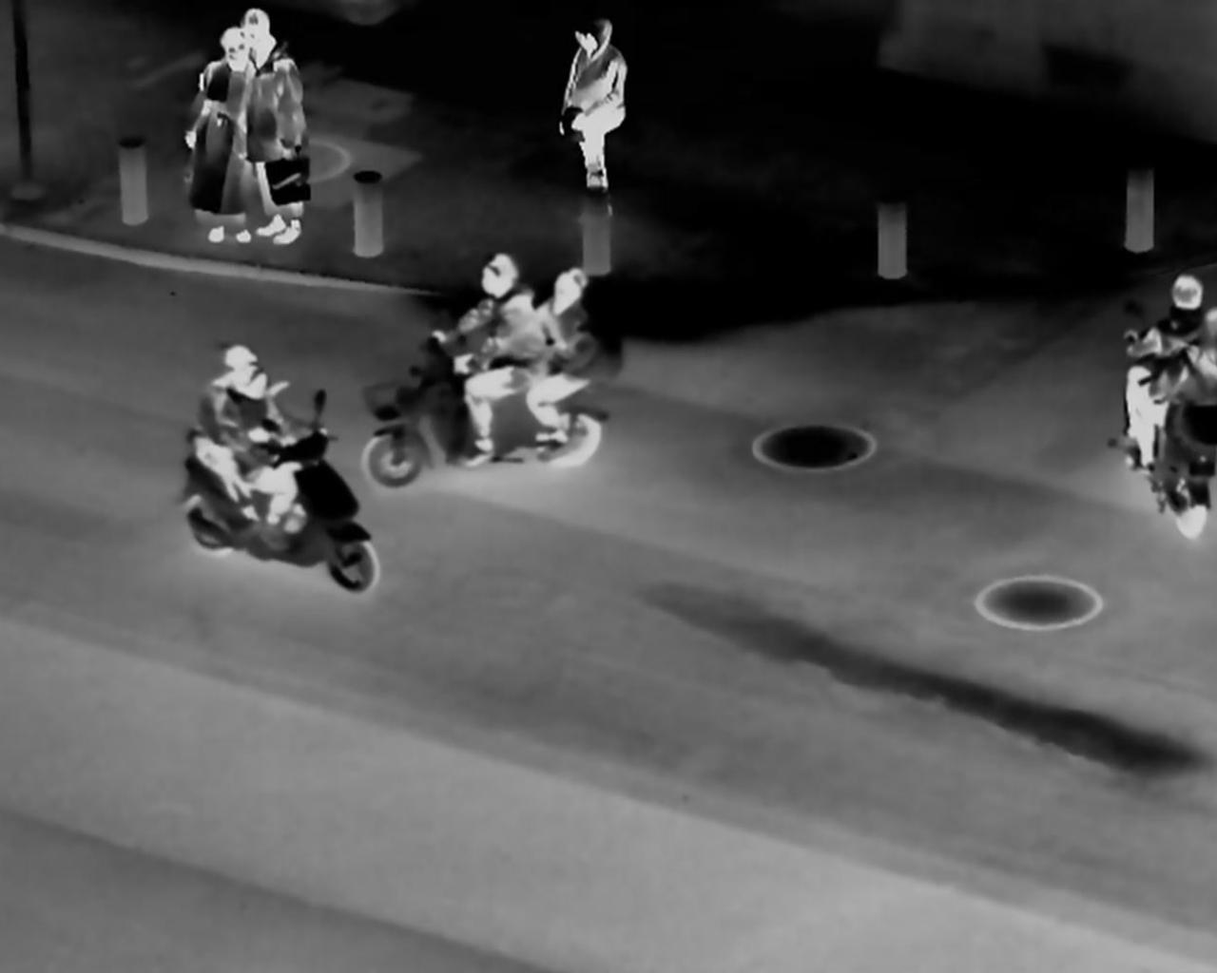person: (235, 10, 327, 259), (444, 238, 538, 468), (193, 342, 294, 541), (527, 238, 611, 469), (223, 367, 317, 549), (1125, 257, 1206, 467), (550, 22, 643, 194), (191, 27, 257, 232), (1135, 303, 1217, 464)
